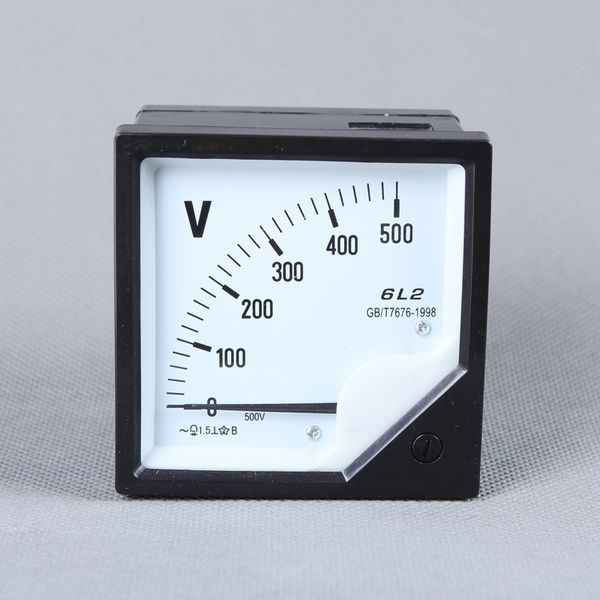pointer: (138, 157, 465, 478)
